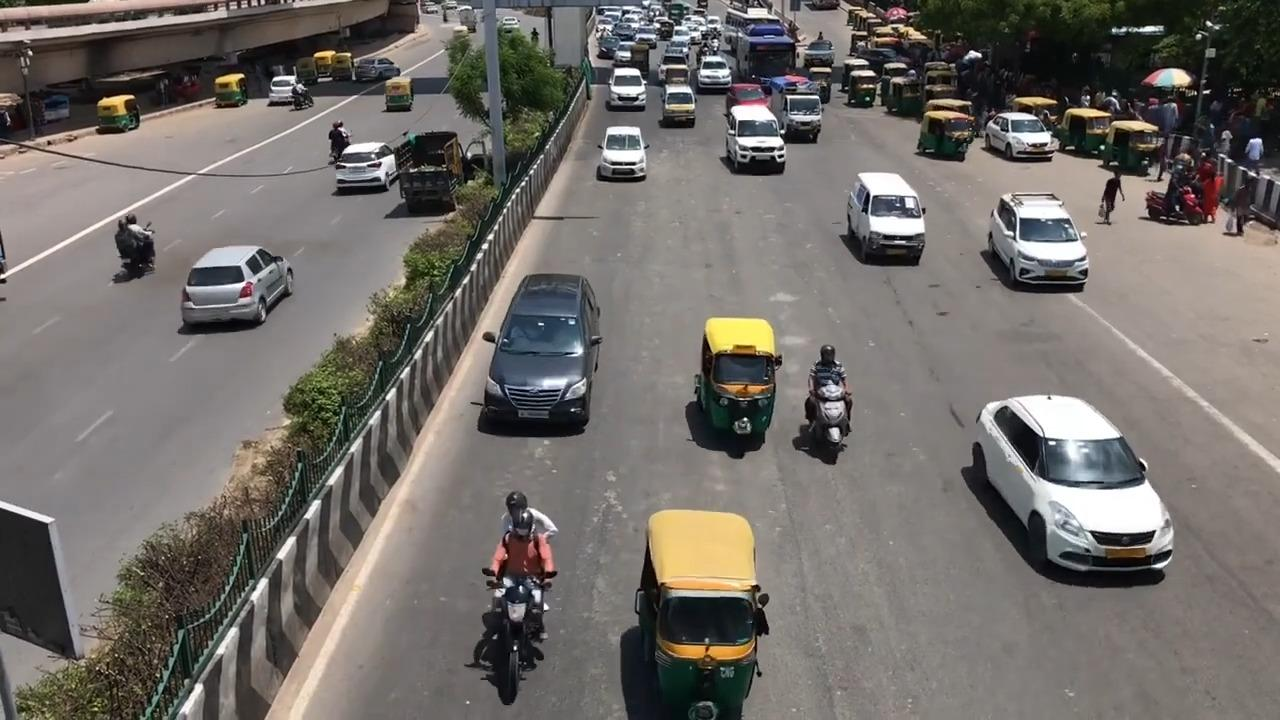Auto: (634, 507, 770, 719), (692, 316, 782, 437), (916, 109, 974, 157)
Bike: (478, 491, 558, 705), (802, 340, 854, 466), (1144, 157, 1206, 225), (114, 207, 158, 279)
Truck: (394, 129, 485, 214)
